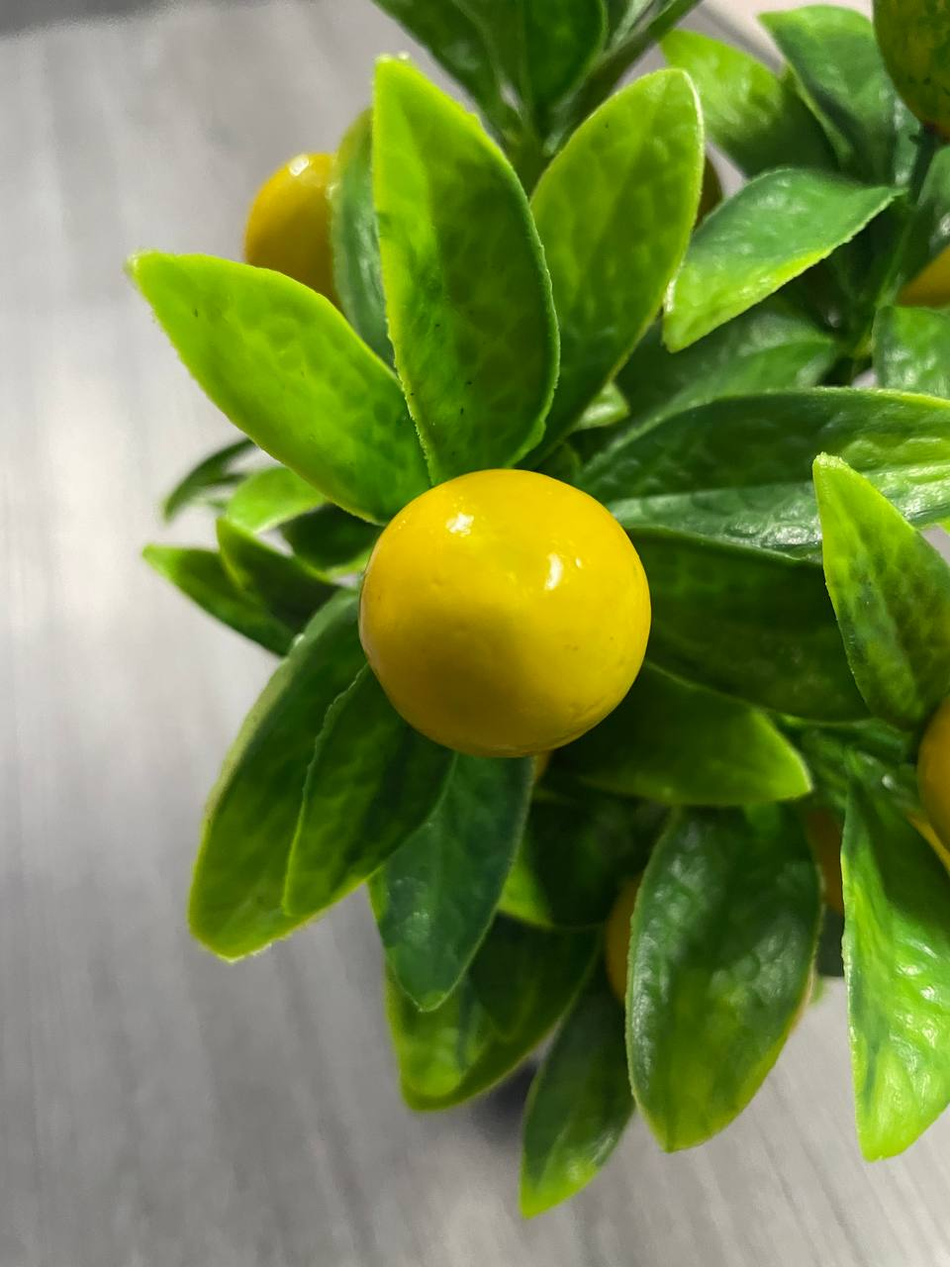lime_ripe: (354, 469, 651, 756)
